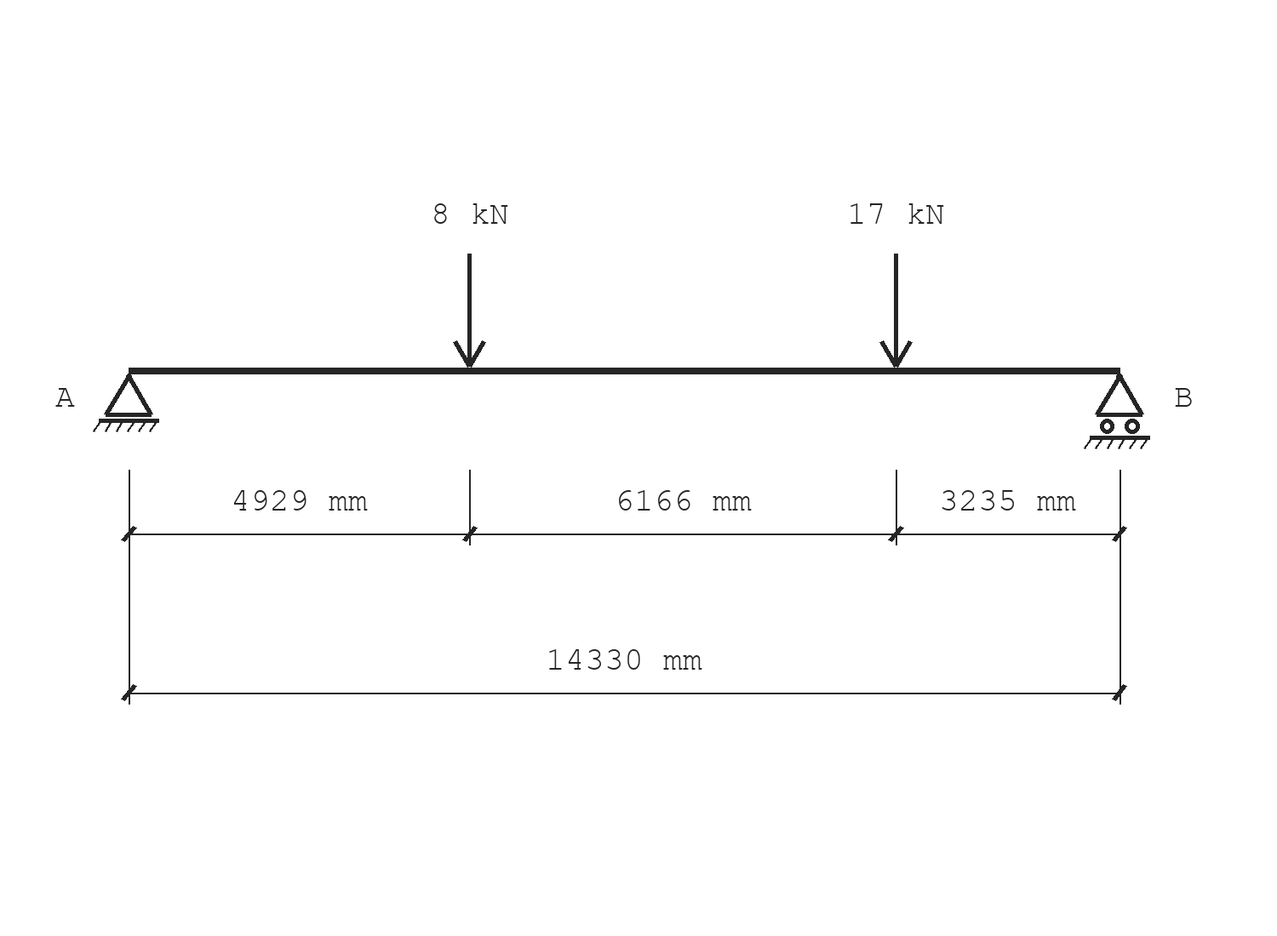pin_support: (93, 374, 159, 432)
point_load: (879, 254, 913, 368), (453, 254, 486, 368)
roller_support: (1084, 374, 1150, 449)
